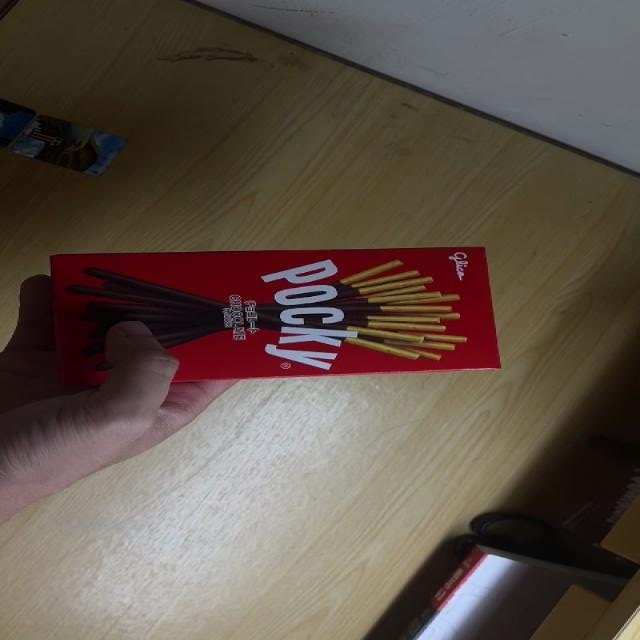Pocky: (47, 244, 505, 387)
